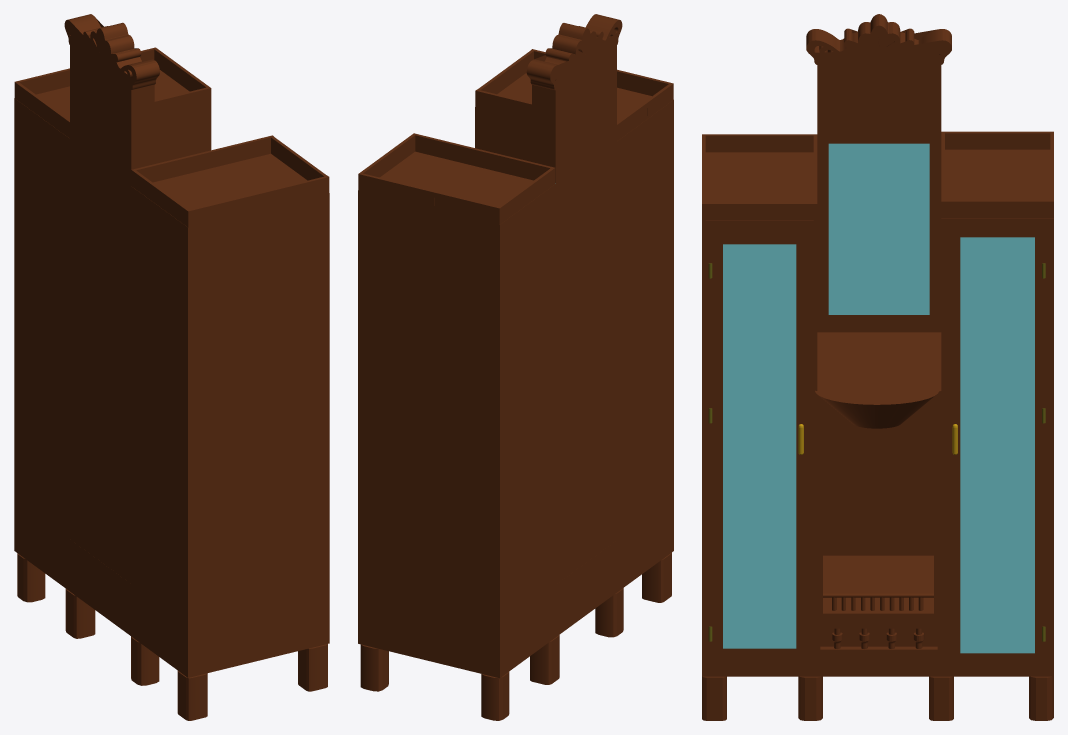
File: vetrinaFull.fbx
3 views of the same model, side by side, from view 1: azimuth 30°, elevation 25°; view 2: azimuth 150°, elevation 25°; view 3: azimuth 270°, elevation 25° (orthographic).
Parts seen in each view (by area): view 1: Cylinder.003; view 2: Cylinder.003; view 3: Cylinder.003.
Part boxes in pixels (bbox=[...]): Cylinder.003: bbox=[14, 14, 329, 720]; Cylinder.003: bbox=[358, 14, 673, 720]; Cylinder.003: bbox=[702, 14, 1053, 720].
Bounding box in the file's own units: 147 × 521 × 261.
